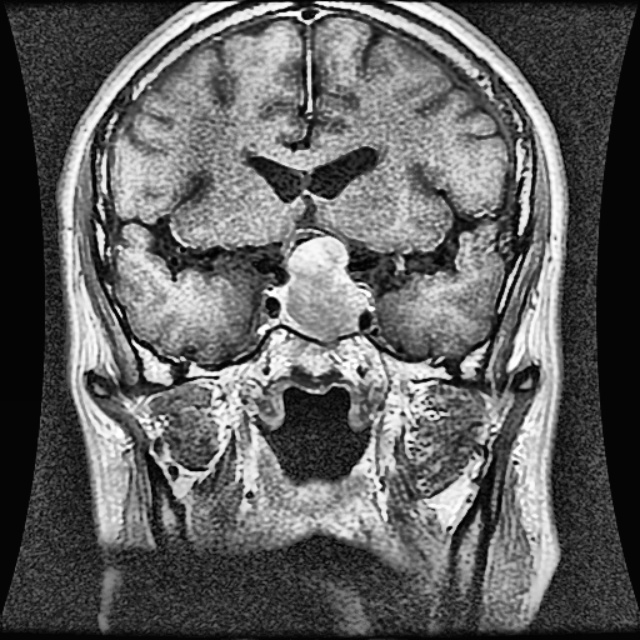Pituitary: (282, 238, 363, 340)
